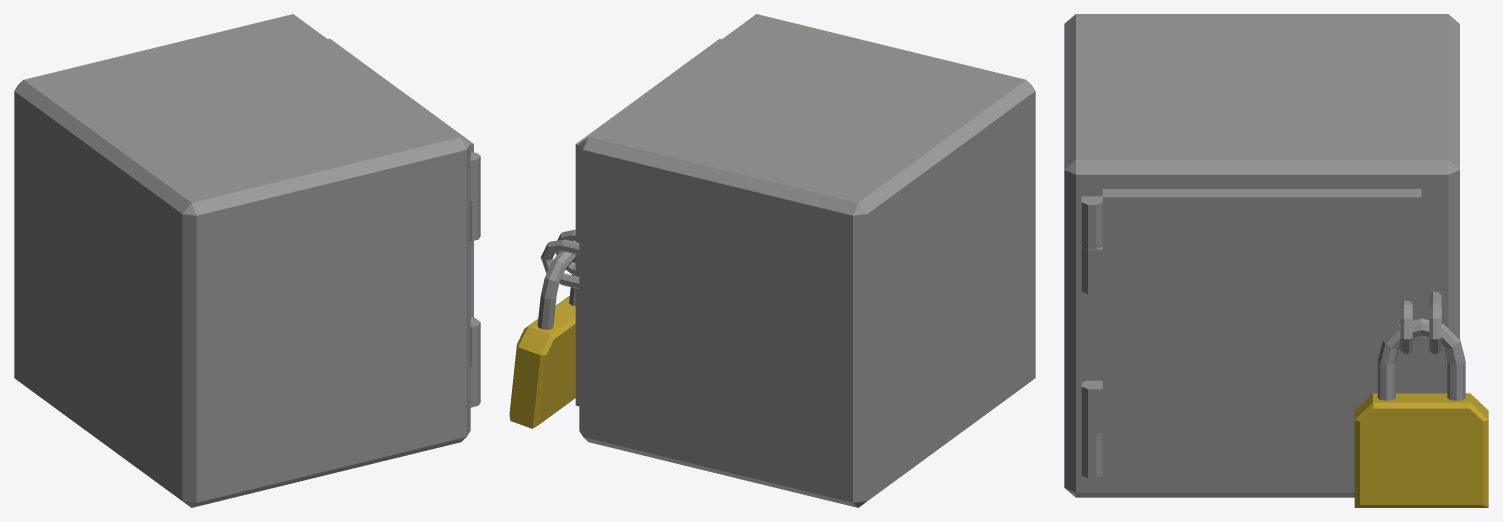
Rendered from Tresor.fbx.
The picture shows the model from 3 angles, left to right: view 1: azimuth 30°, elevation 25°; view 2: azimuth 150°, elevation 25°; view 3: azimuth 270°, elevation 25°; orthographic projection. The views are drawn at different scales.
Visible parts, largest first — view 1: Tresor, Door; view 2: Tresor, Schloss, Door; view 3: Door, Tresor, Schloss.
Boxes of the visible parts, bbox=[...] form: Tresor: bbox=[14, 14, 480, 507]; Door: bbox=[328, 38, 480, 366]; Tresor: bbox=[540, 14, 1035, 507]; Schloss: bbox=[509, 251, 575, 428]; Door: bbox=[555, 39, 721, 406]; Door: bbox=[1081, 189, 1421, 486]; Tresor: bbox=[1064, 14, 1459, 497]; Schloss: bbox=[1354, 318, 1488, 507].
Bounding box in the file's own units: 237 × 202 × 230.
